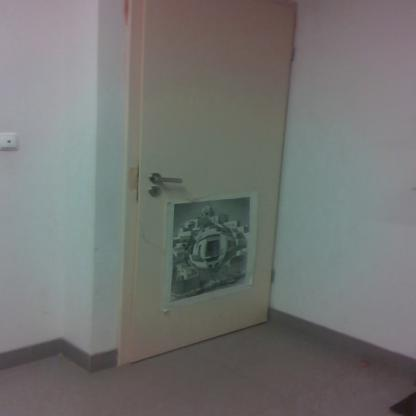door: (140, 0, 292, 343)
hinged: (286, 41, 296, 64), (270, 268, 276, 284)
lever: (154, 174, 190, 186)
